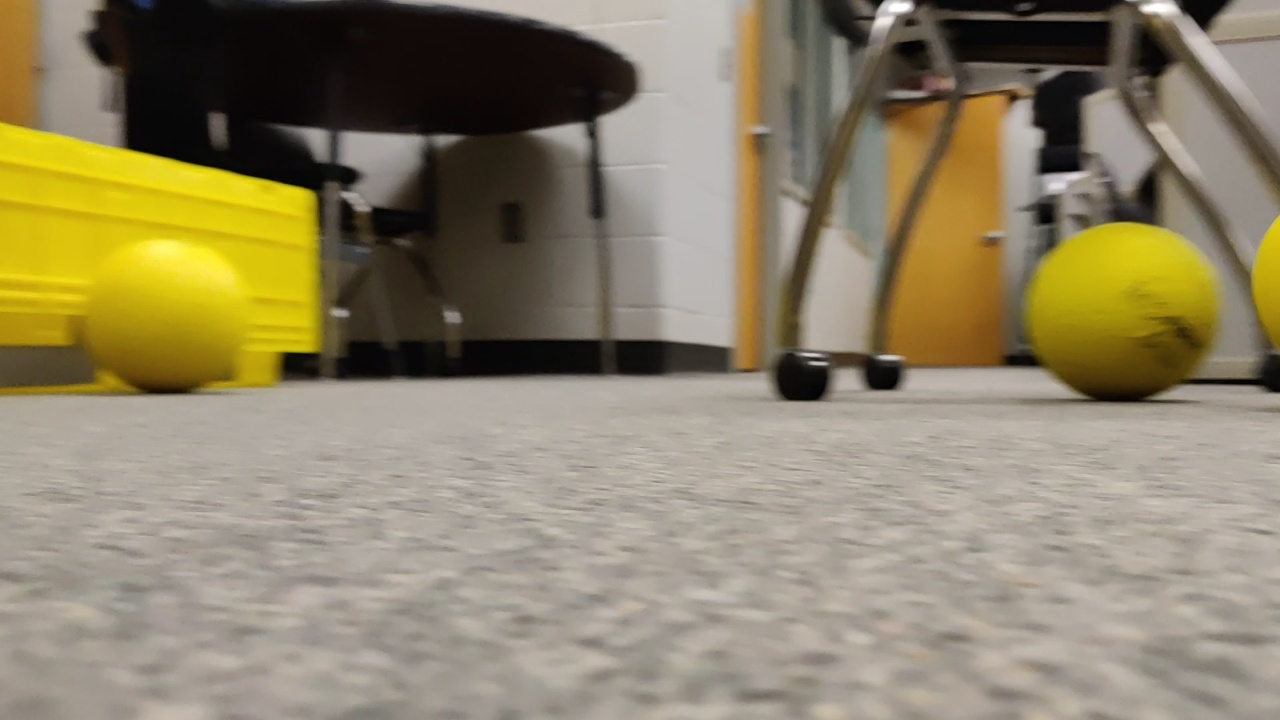Ball: (1028, 212, 1219, 399), (89, 240, 254, 383), (1253, 220, 1280, 344)
